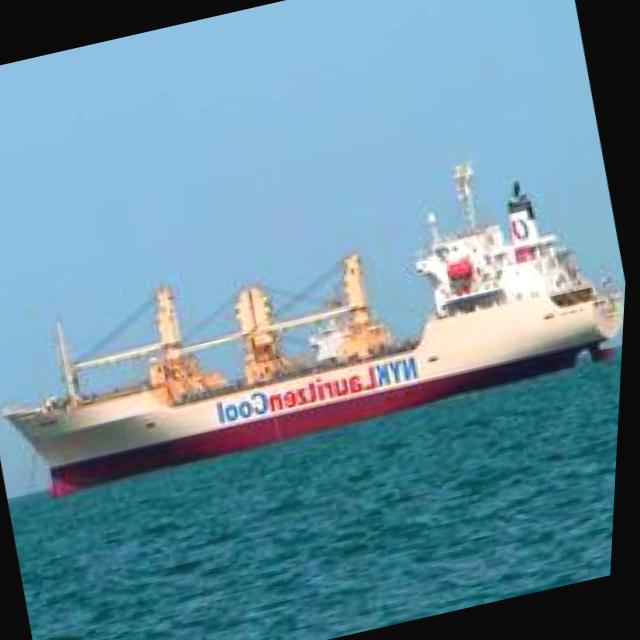ship2: (4, 164, 627, 499)
